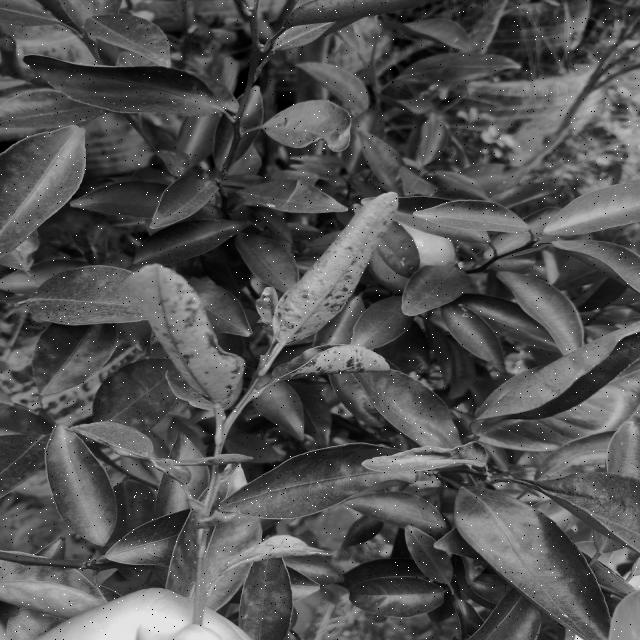melanose: (266, 187, 397, 343), (124, 259, 250, 408), (282, 338, 417, 392)
